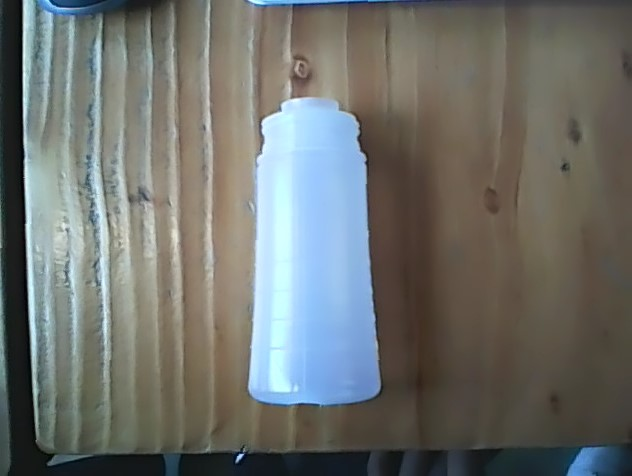Plastic: (244, 93, 381, 411)
